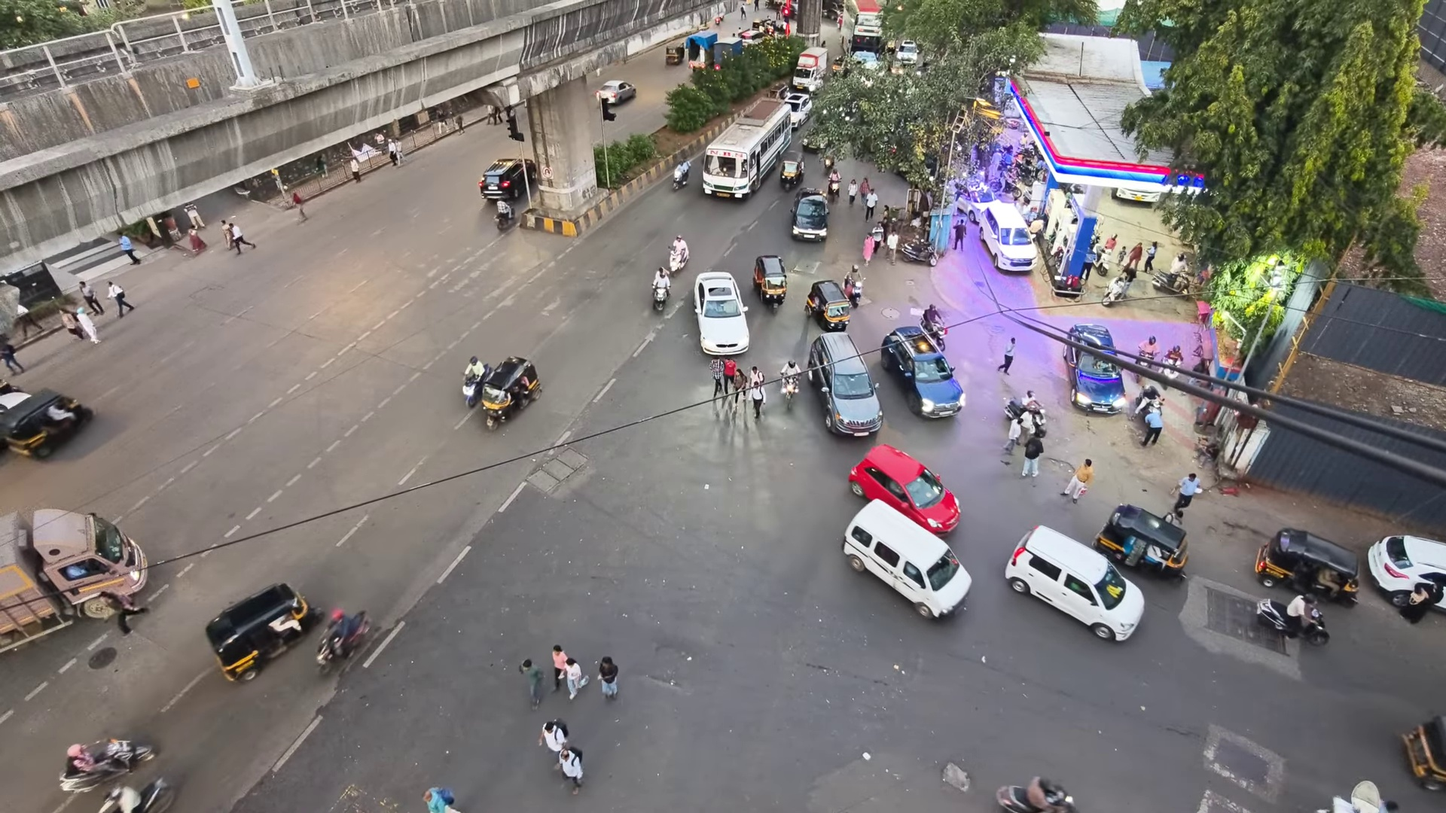driving: (0, 509, 146, 650), (1004, 526, 1144, 641), (843, 501, 971, 618), (205, 584, 318, 681), (847, 444, 960, 534), (703, 99, 791, 198), (805, 333, 882, 436), (1255, 529, 1358, 605), (880, 326, 964, 417), (1093, 504, 1188, 576), (0, 386, 93, 458), (1367, 534, 1445, 607), (1064, 324, 1127, 413), (59, 739, 155, 792), (694, 272, 749, 355), (482, 356, 540, 428), (978, 200, 1037, 270), (1255, 598, 1329, 645), (316, 611, 370, 674), (1402, 714, 1446, 791), (98, 778, 175, 812), (478, 158, 538, 201), (804, 281, 851, 330), (790, 188, 828, 240), (753, 254, 787, 310), (1004, 391, 1047, 435), (792, 47, 830, 93), (956, 181, 996, 223), (850, 20, 883, 60), (683, 31, 717, 69), (462, 365, 490, 409), (919, 311, 947, 350), (898, 239, 938, 266), (784, 93, 812, 129), (596, 80, 636, 103), (779, 156, 805, 190), (494, 199, 517, 230), (667, 245, 688, 276), (651, 279, 670, 311), (852, 52, 883, 71), (673, 159, 691, 190), (895, 41, 918, 64)
walking: (101, 591, 148, 635), (1399, 581, 1445, 623), (1170, 473, 1201, 519), (1061, 458, 1093, 502), (519, 659, 543, 709), (558, 745, 582, 794), (13, 303, 43, 340), (538, 719, 568, 754), (107, 282, 135, 317), (1021, 434, 1043, 477), (565, 657, 587, 699), (0, 336, 24, 373), (599, 656, 619, 700), (230, 221, 255, 254), (715, 358, 737, 395), (76, 308, 99, 343), (423, 787, 455, 812), (749, 367, 765, 417), (551, 644, 568, 691), (79, 281, 103, 314), (1142, 410, 1162, 446), (1003, 419, 1023, 455), (996, 337, 1015, 373), (61, 309, 83, 340), (731, 368, 746, 412), (709, 357, 725, 397), (118, 234, 140, 263), (291, 190, 307, 221), (1124, 242, 1142, 269), (188, 227, 206, 253), (862, 233, 876, 265), (952, 218, 966, 248), (864, 190, 877, 221), (886, 231, 898, 264), (1144, 242, 1157, 272), (220, 219, 232, 250), (847, 179, 859, 206), (387, 139, 398, 166), (349, 156, 360, 181), (859, 177, 872, 198), (319, 157, 324, 176)
